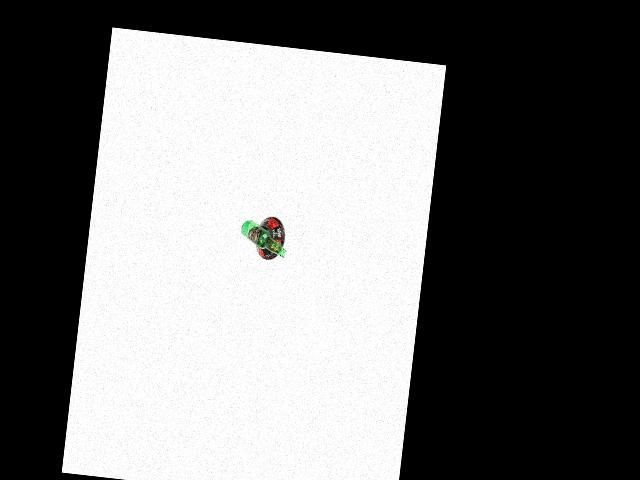beer: (239, 218, 290, 257)
